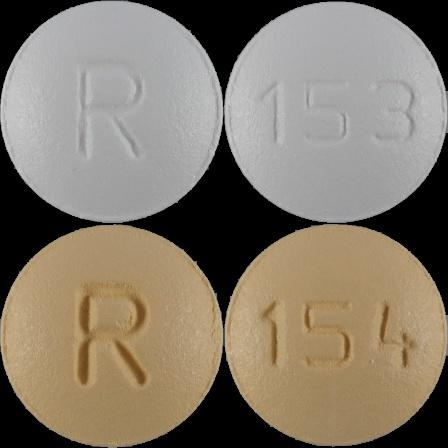55111-153: (0, 0, 224, 224)
